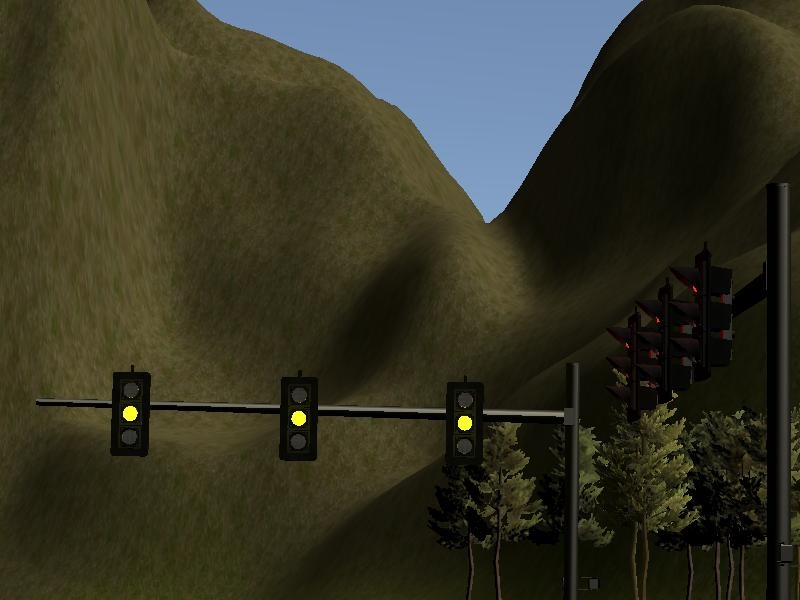YELLOW: (278, 377, 319, 461), (443, 381, 484, 465), (108, 372, 149, 456)
